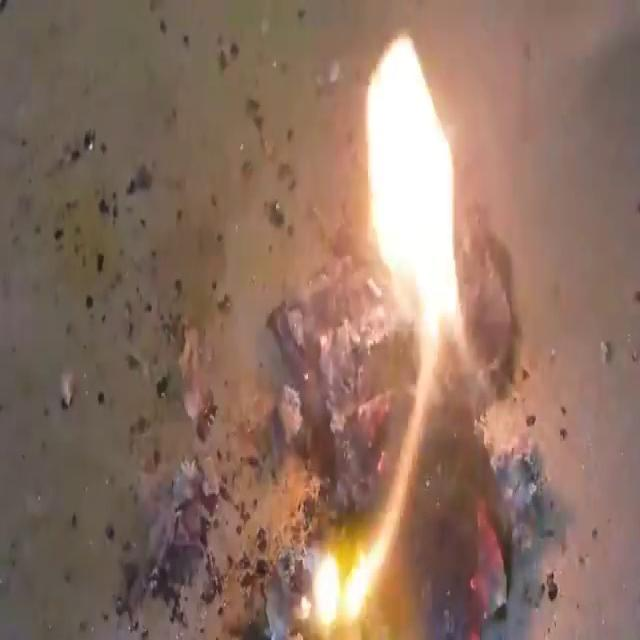Fire: (255, 14, 520, 640)
